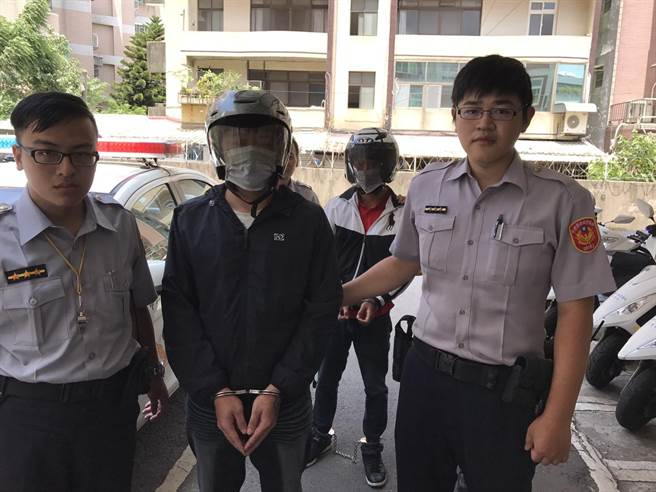helmet: (208, 83, 288, 131), (341, 128, 401, 177)
